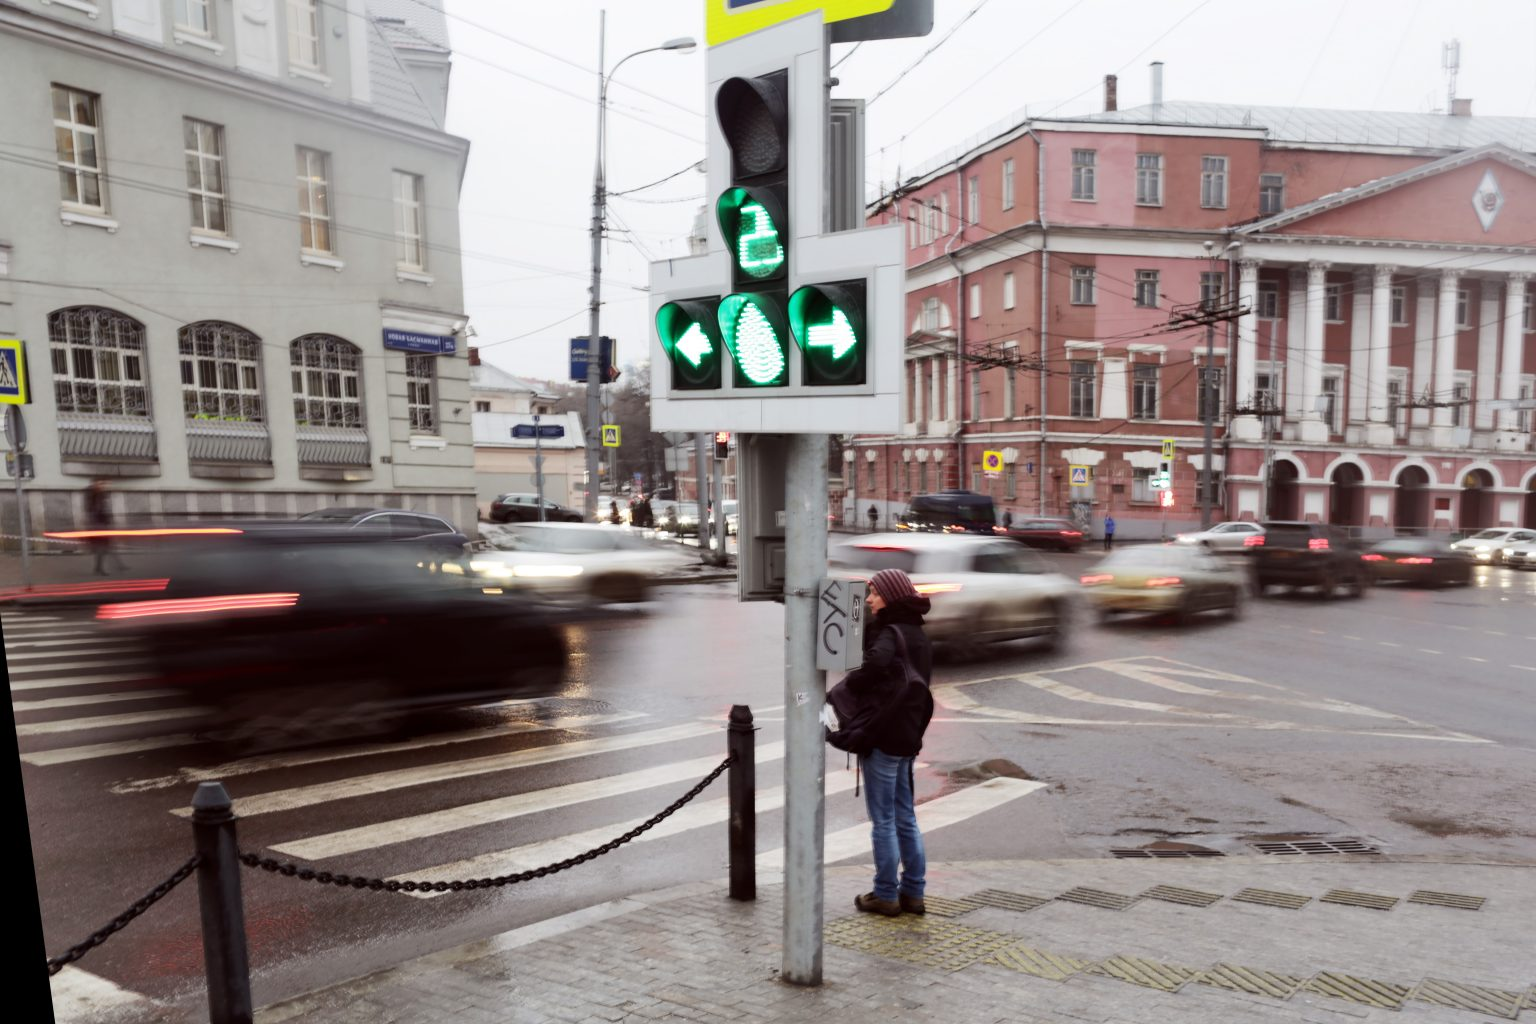tl: (645, 29, 914, 429)
